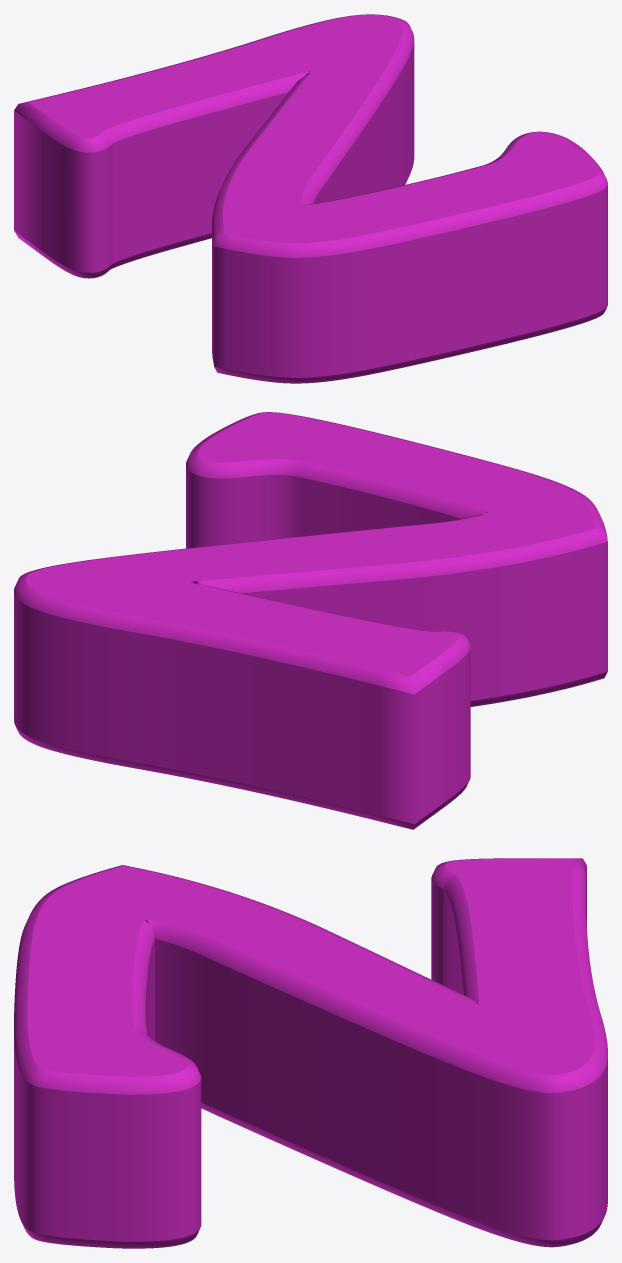
Rendered from Bubble_Letter_z.fbx.
3 views of the same model, one above another, from view 1: azimuth 30°, elevation 25°; view 2: azimuth 150°, elevation 25°; view 3: azimuth 270°, elevation 25° (orthographic). The views are drawn at different scales.
Parts seen in each view (by area): view 1: BubbleLetter_z; view 2: BubbleLetter_z; view 3: BubbleLetter_z.
Boxes of the visible parts, <box> form: BubbleLetter_z: <box>14,14,607,383</box>; BubbleLetter_z: <box>14,412,607,829</box>; BubbleLetter_z: <box>14,858,607,1248</box>.
Bounding box in the file's own units: 0.4009 × 0.14 × 0.4391.
